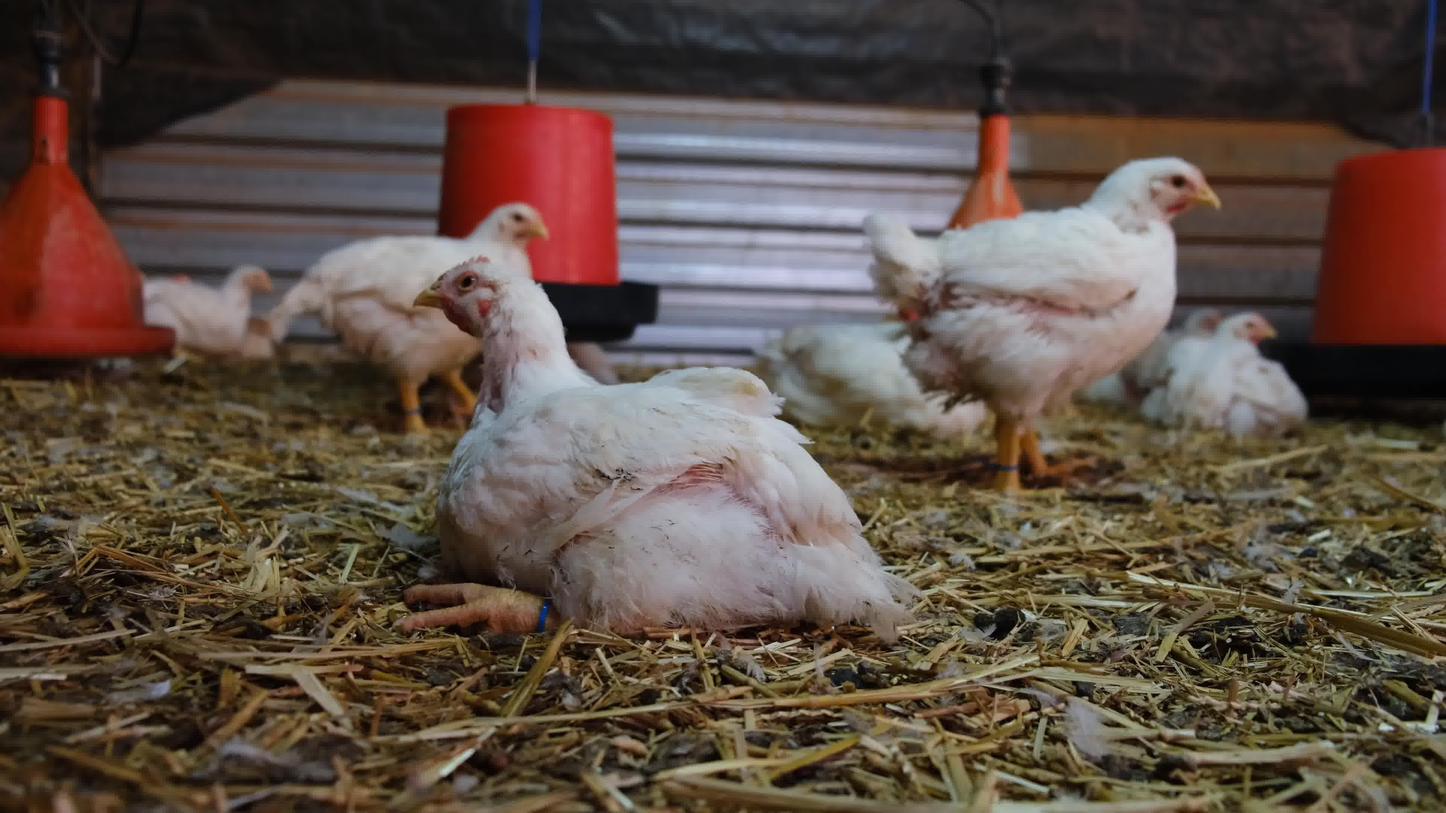AbNormal: (398, 256, 903, 640), (750, 311, 1010, 426), (1152, 309, 1311, 437), (1093, 301, 1236, 405), (201, 313, 290, 375)
Normal: (864, 152, 1224, 499), (280, 201, 550, 438), (138, 264, 273, 357)
